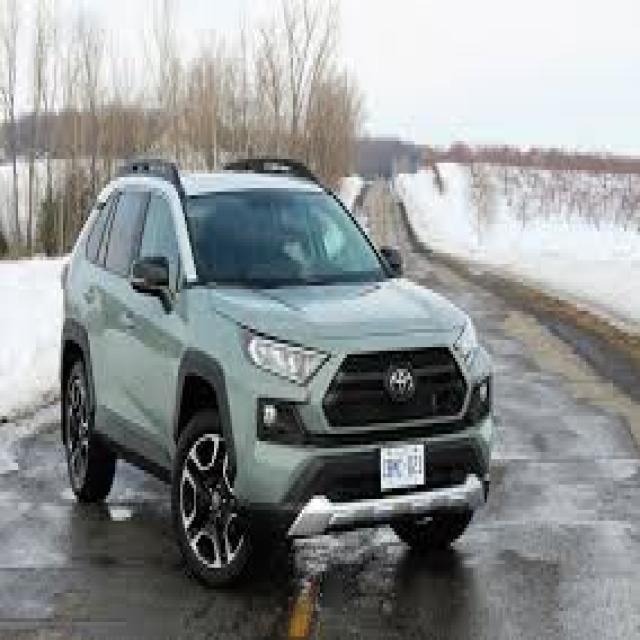light_vehicle: (58, 156, 496, 590)
